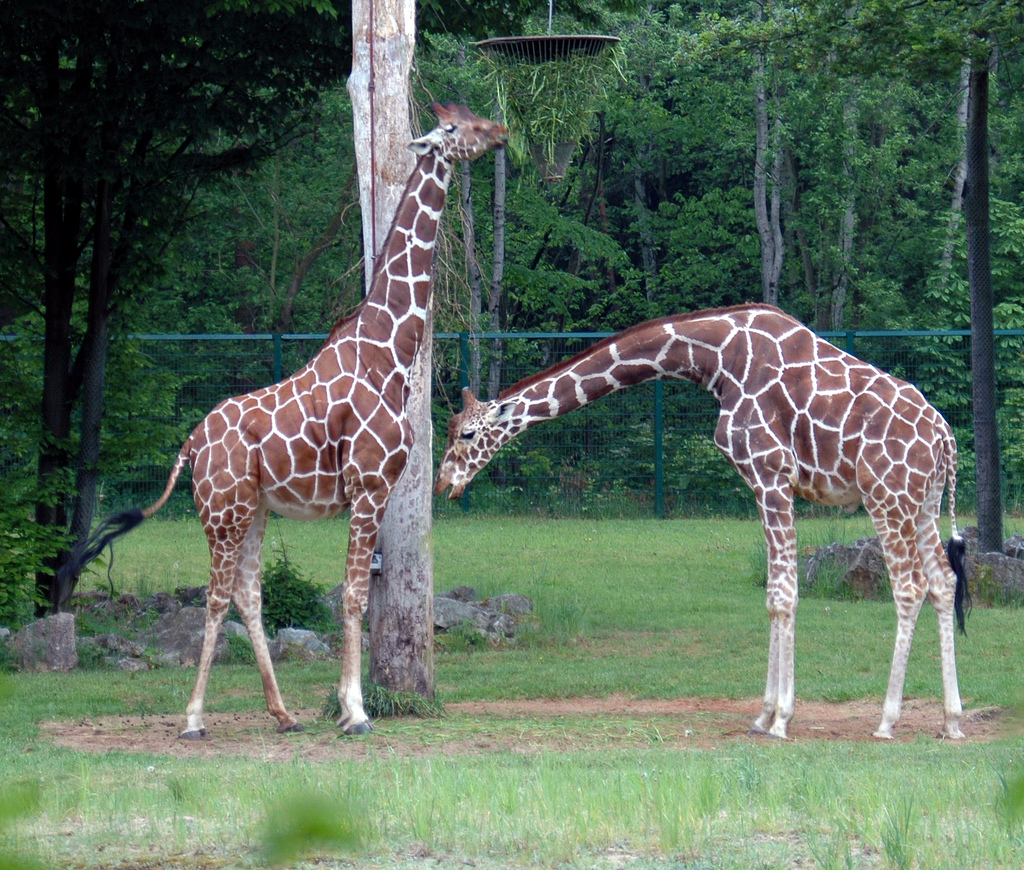giraffe: (79, 103, 526, 764), (459, 299, 994, 798)
